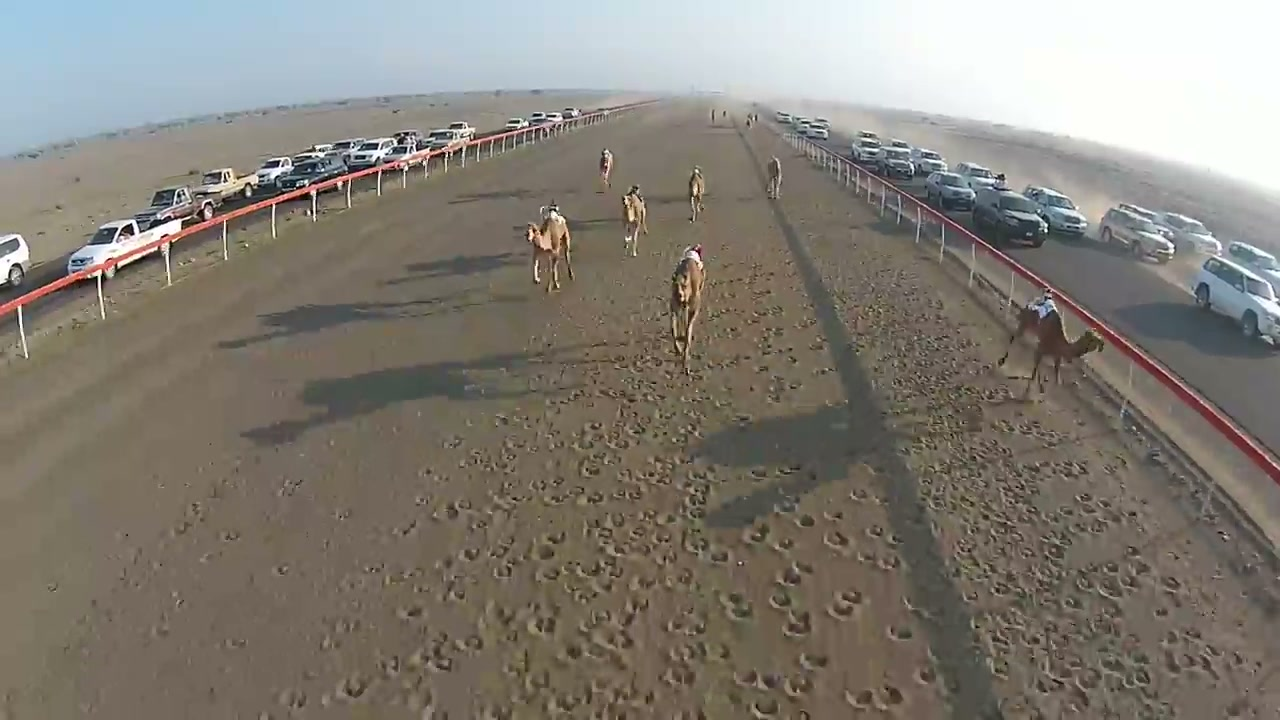animal_footprint: (409, 342, 951, 713), (811, 311, 1140, 693), (1017, 395, 1246, 678)
